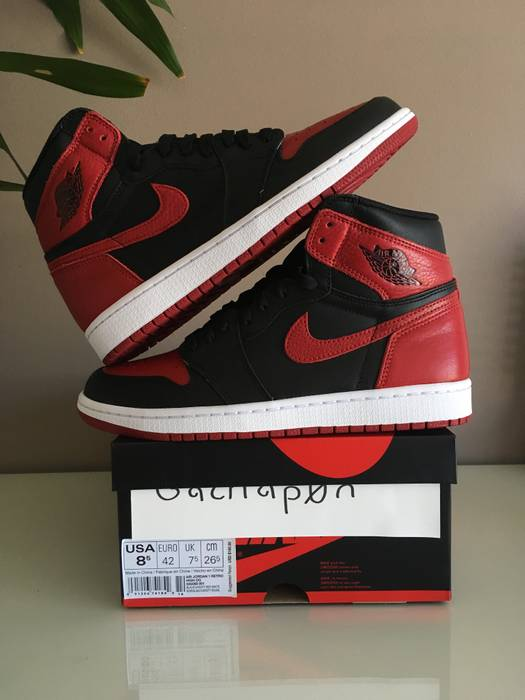Air Jordan 1 Bred: (17, 89, 438, 368), (73, 189, 481, 448)
